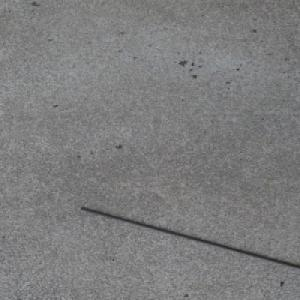LuggagePart: (79, 206, 300, 270)
